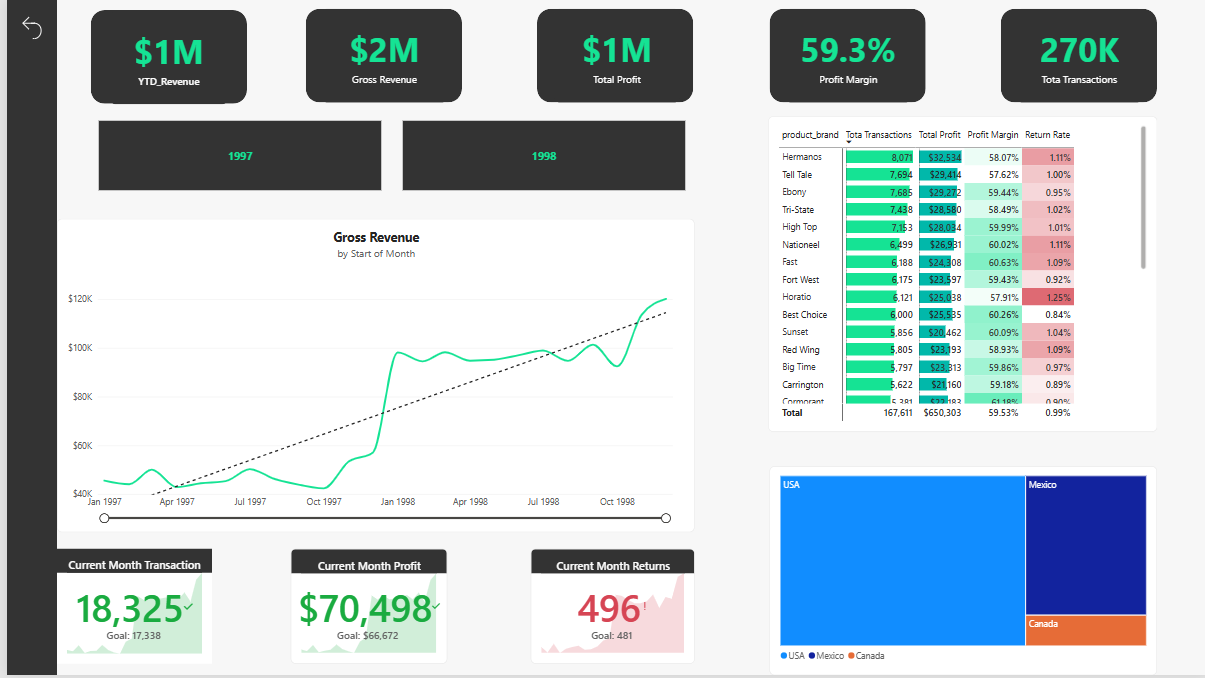

Layout of this report page (visuals, bound fields, positions):
{"tool":"powerbi","page":{"name":"Executive Summary","canvas":[1920,1080],"ordinal":0},"visuals":[{"type":"shape","box":[0,0,80,1080.4],"z":0},{"type":"shape","box":[478.6,14.3,250,150],"z":0,"group":"g1"},{"type":"cardVisual","fields":{"Data":["measure data.Gross Revenue"]},"box":[503.6,14.3,200,150],"z":0,"group":"g2"},{"type":"shape","box":[849.4,14.3,250,150],"z":1000,"group":"g1"},{"type":"cardVisual","fields":{"Data":["measure data.Total Profit"]},"box":[875,14.3,200,150],"z":1000,"group":"g2"},{"type":"treemap","fields":{"Group":["stores.country","stores.state","stores.city"],"Values":["measure data.Tota Transactions"]},"box":[1220.7,746.1,620.2,334.4],"z":1000},{"type":"group","id":"g1","title":"KPIs background","box":[478.6,14.3,1362.5,150],"z":1500,"group":"g3"},{"type":"group","id":"g2","title":"KPIs cards","box":[503.6,14.3,1312.5,150],"z":2000,"group":"g3"},{"type":"shape","box":[1220.3,14.3,250,150],"z":2000,"group":"g1"},{"type":"cardVisual","fields":{"Data":["measure data.Profit Margin"]},"box":[1244.7,14.3,200,150],"z":2000,"group":"g2"},{"type":"advancedSlicerVisual","fields":{"Values":["calender.Year"]},"box":[133,187,965.4,127.6],"z":2000},{"type":"group","id":"g3","title":"KPIs","box":[478.6,14.3,1362.5,150],"z":3000},{"type":"shape","box":[1591.1,14.3,250,150],"z":3000,"group":"g1"},{"type":"cardVisual","fields":{"Data":["measure data.Tota Transactions"]},"box":[1616.1,14.3,200,150],"z":3000,"group":"g2"},{"type":"pivotTable","fields":{"Rows":["products.product_brand"],"Values":["measure data.Tota Transactions","measure data.Total Profit","measure data.Profit Margin","measure data.Return Rate"]},"box":[1218.9,187,622,505.2],"z":4000},{"type":"lineChart","fields":{"Category":["calender.Year","calender.Start of Month","calender.Start of Week"],"Y":["measure data.Gross Revenue"]},"box":[80.4,350,1019.6,501.8],"z":5000},{"type":"kpi","title":"Current Month Transaction","fields":{"Goal":["measure data.Last Month Transactions"],"Indicator":["measure data.Tota Transactions"],"TrendLine":["calender.Start of Month"]},"box":[80.4,878.6,248.2,183.9],"z":6000},{"type":"kpi","title":"Current Month Returns","fields":{"Goal":["measure data.Last Month Returns"],"Indicator":["measure data.Total Returns"],"TrendLine":["calender.Start of Month"]},"box":[837.5,878.6,262.5,183.9],"z":7000},{"type":"kpi","title":"Current Month Profit","fields":{"Goal":["measure data.Last Month Profit"],"Indicator":["measure data.Total Profit"],"TrendLine":["calender.Start of Month"]},"box":[453.6,878.6,250,183.9],"z":8000},{"type":"actionButton","box":[0,0,80.4,89.3],"z":9000},{"type":"shape","box":[133,16.2,250,150],"z":10000},{"type":"cardVisual","fields":{"Data":["measure data.YTD_Revenue"]},"box":[165.4,18,187,149.2],"z":11000}]}

Visuals, with their boxes in screenshot pixels (x1, y1, x2, y2), scaled from the page's 1920x1080 canvas onto the 1205x678 screenshot:
shape: [0, 0, 50, 677]
shape: [300, 9, 457, 103]
cardVisual - measure data.Gross Revenue: [316, 9, 442, 103]
shape: [533, 9, 690, 103]
cardVisual - measure data.Total Profit: [549, 9, 675, 103]
treemap - stores.country x stores.state: [766, 468, 1155, 677]
"KPIs background" group: [300, 9, 1155, 103]
"KPIs cards" group: [316, 9, 1140, 103]
shape: [766, 9, 923, 103]
cardVisual - measure data.Profit Margin: [781, 9, 907, 103]
advancedSlicerVisual - calender.Year: [83, 117, 689, 197]
"KPIs" group: [300, 9, 1155, 103]
shape: [999, 9, 1155, 103]
cardVisual - measure data.Tota Transactions: [1014, 9, 1140, 103]
pivotTable - products.product_brand x measure data.Tota Transactions: [765, 117, 1155, 435]
lineChart - calender.Year x calender.Start of Month: [50, 220, 690, 535]
"Current Month Transaction" kpi: [50, 552, 206, 667]
"Current Month Returns" kpi: [526, 552, 690, 667]
"Current Month Profit" kpi: [285, 552, 442, 667]
actionButton: [0, 0, 50, 56]
shape: [83, 10, 240, 104]
cardVisual - measure data.YTD_Revenue: [104, 11, 221, 105]
